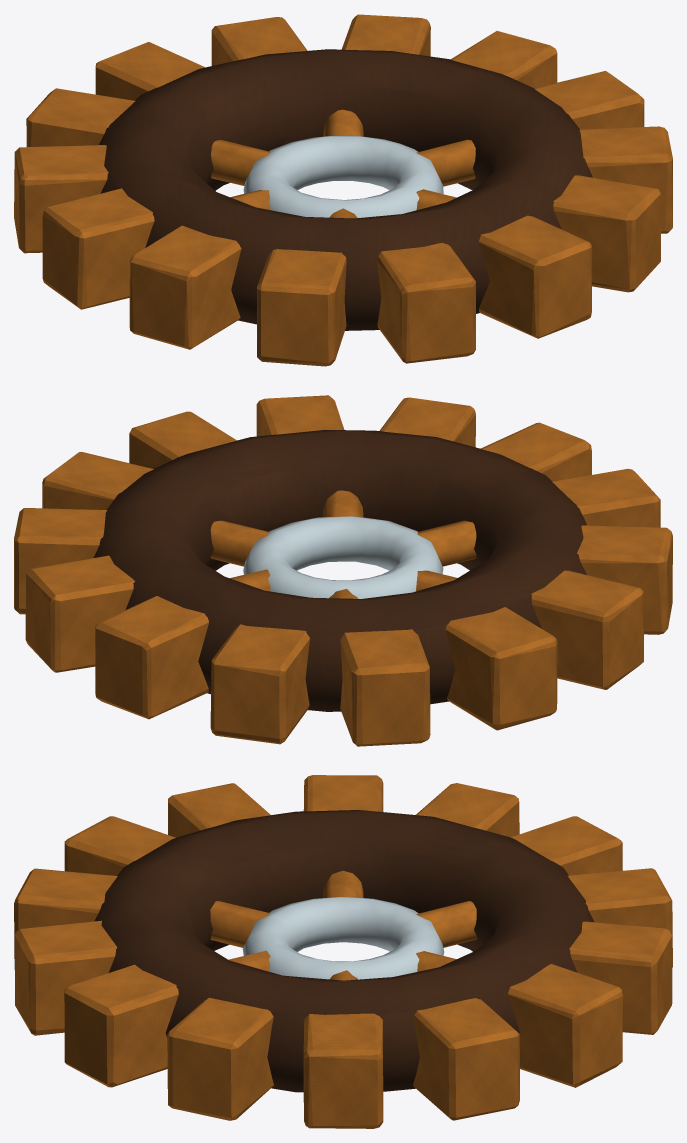
Rendered from relic_03_low.glb.
3 renders of one model, top to bottom at view 1: azimuth 30°, elevation 25°; view 2: azimuth 150°, elevation 25°; view 3: azimuth 270°, elevation 25°, orthographic.
Visible parts, largest first — view 1: Brushed_gold, Patinated_bronze, Antique_silver; view 2: Brushed_gold, Patinated_bronze, Antique_silver; view 3: Brushed_gold, Patinated_bronze, Antique_silver.
Boxes of the visible parts, x1=… form: Brushed_gold: x1=14, y1=14, x2=672, y2=366; Patinated_bronze: x1=99, y1=49, x2=592, y2=330; Antique_silver: x1=243, y1=135, x2=443, y2=217; Brushed_gold: x1=14, y1=395, x2=672, y2=746; Patinated_bronze: x1=93, y1=430, x2=586, y2=711; Antique_silver: x1=243, y1=516, x2=443, y2=598; Brushed_gold: x1=14, y1=775, x2=672, y2=1128; Patinated_bronze: x1=94, y1=810, x2=594, y2=1092; Antique_silver: x1=242, y1=897, x2=444, y2=979.
Bounding box in the file's own units: 0.8189 × 0.1502 × 0.8171.
Materials: 3 (2 with a texture image).
